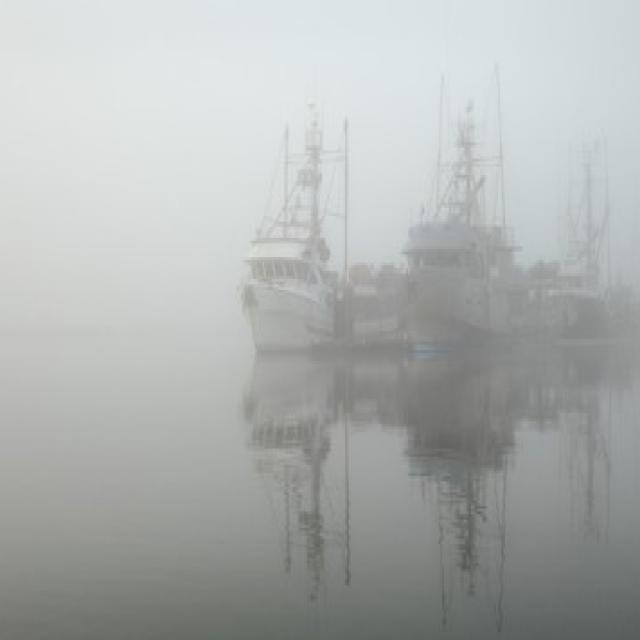fishing boat: (238, 95, 408, 348), (406, 94, 568, 354), (552, 112, 640, 345)
